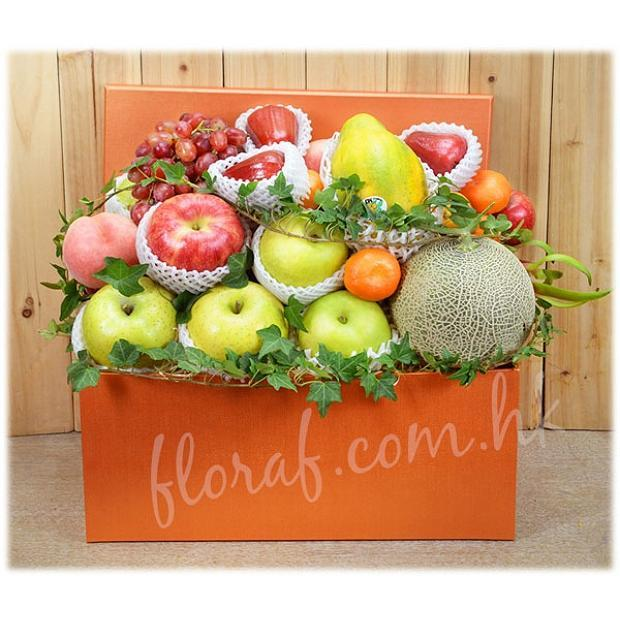apple: (252, 213, 349, 298), (186, 280, 286, 362), (79, 283, 176, 367), (150, 193, 243, 271), (296, 292, 390, 357)
